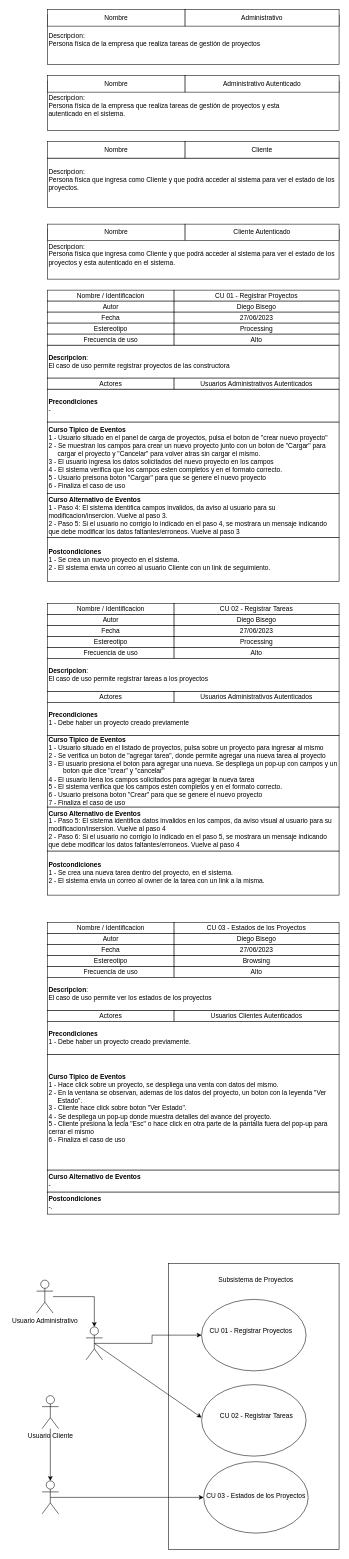
This 349x1559 diagram has some shape labels left out. The shapes that lost their labels are listed below. From the top down, each one's centre as x and y in pixels, then its label:
At [94,1343]: "Usuario Administrativo Autenticado".
At [50,1497]: "Usuario Cliente Autenticado".
